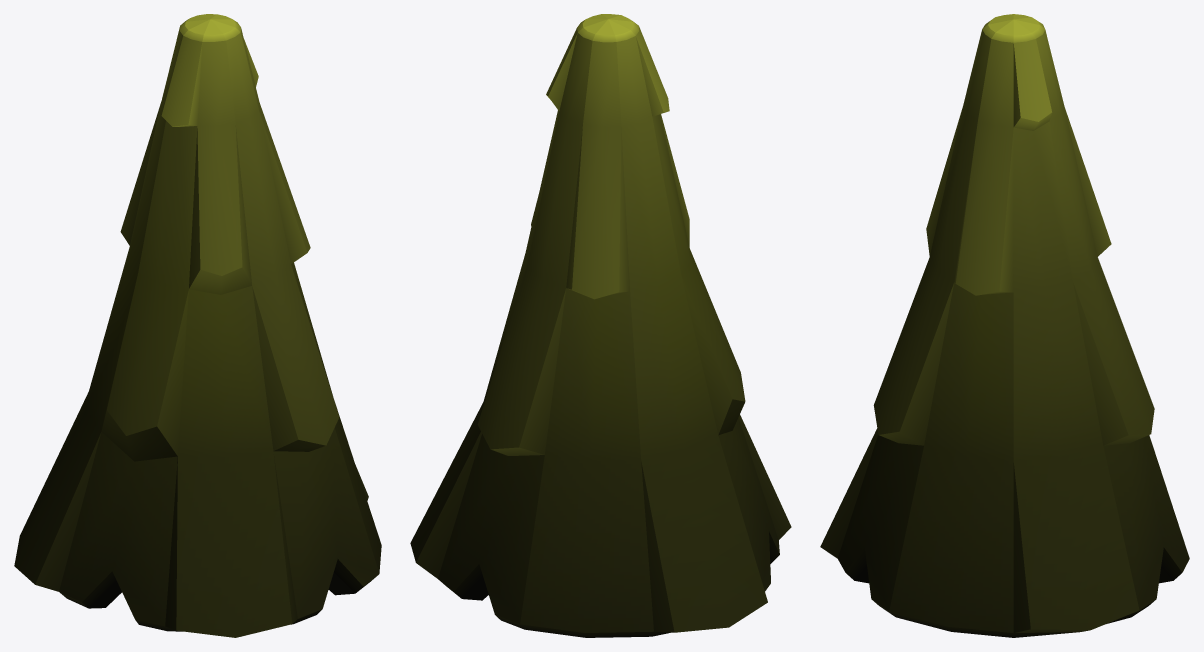
The model's file is Leaves_01A.fbx.
The picture shows the model from 3 angles, left to right: view 1: azimuth 30°, elevation 25°; view 2: azimuth 150°, elevation 25°; view 3: azimuth 270°, elevation 25°; orthographic projection.
Parts seen in each view (by area): view 1: Leaves_01A; view 2: Leaves_01A; view 3: Leaves_01A.
Boxes of the visible parts, bbox=[...] form: Leaves_01A: bbox=[14, 14, 381, 637]; Leaves_01A: bbox=[410, 14, 791, 637]; Leaves_01A: bbox=[820, 14, 1189, 637].
Size of the model in its own units: 454 by 715 by 432.
